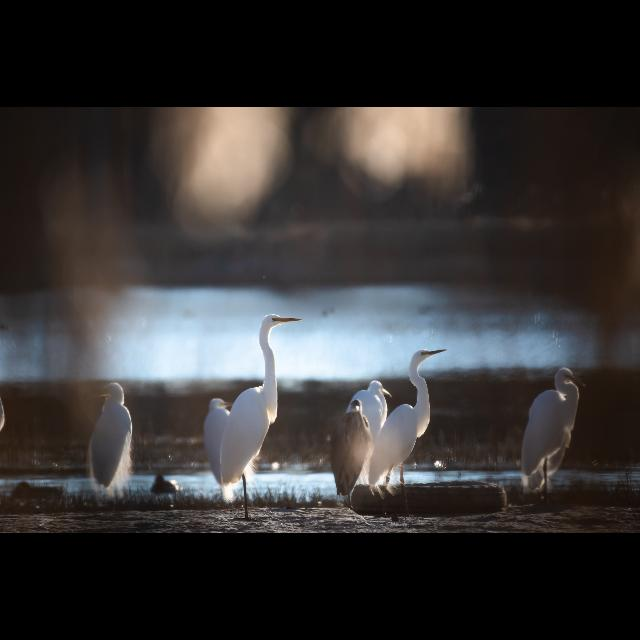egret: (216, 313, 302, 511), (372, 348, 448, 500), (521, 366, 583, 506), (85, 380, 141, 502)
